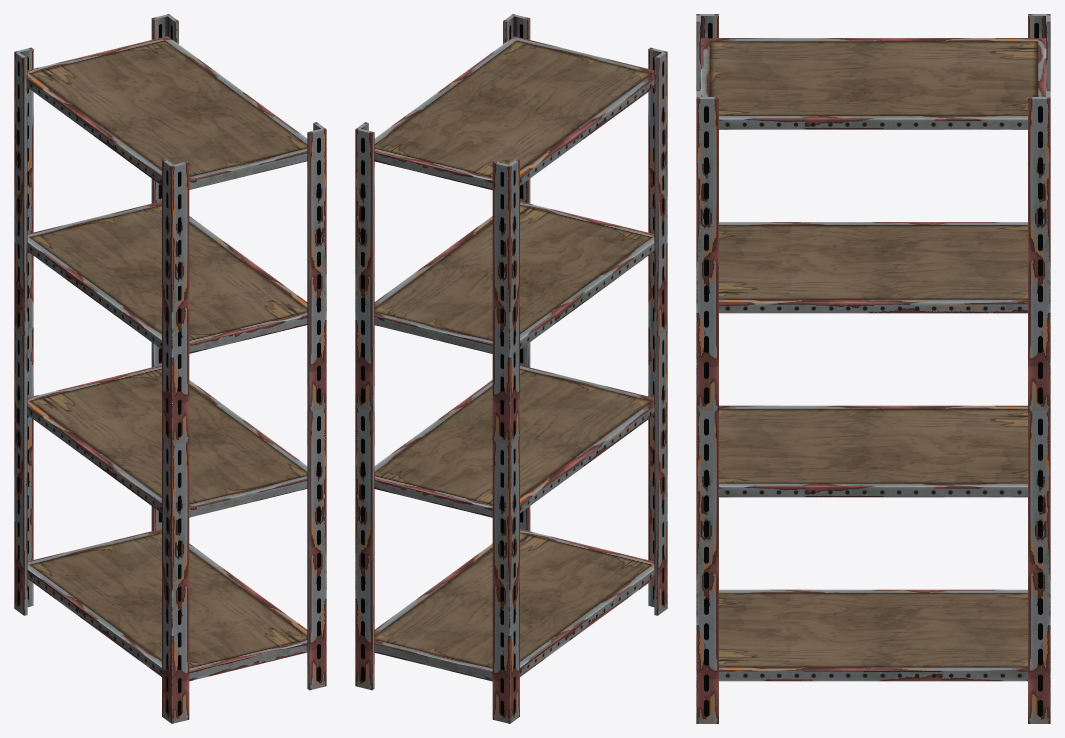
File: metalShelf01_B.fbx
3 renders of one model, left to right at view 1: azimuth 30°, elevation 25°; view 2: azimuth 150°, elevation 25°; view 3: azimuth 270°, elevation 25°, orthographic. The views are drawn at different scales.
Parts seen in each view (by area): view 1: metalShelf01_B; view 2: metalShelf01_B; view 3: metalShelf01_B.
Boxes of the visible parts, bbox=[...] form: metalShelf01_B: bbox=[14, 14, 326, 723]; metalShelf01_B: bbox=[355, 14, 667, 723]; metalShelf01_B: bbox=[696, 14, 1050, 723].
Size of the model in its own units: 52.4 by 180 by 92.4.
